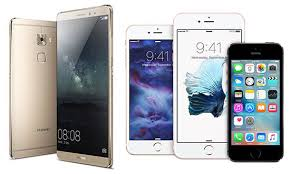huawei: (54, 3, 116, 169), (7, 17, 58, 159)
iphone: (172, 9, 247, 160), (227, 41, 284, 163), (125, 22, 173, 156)
